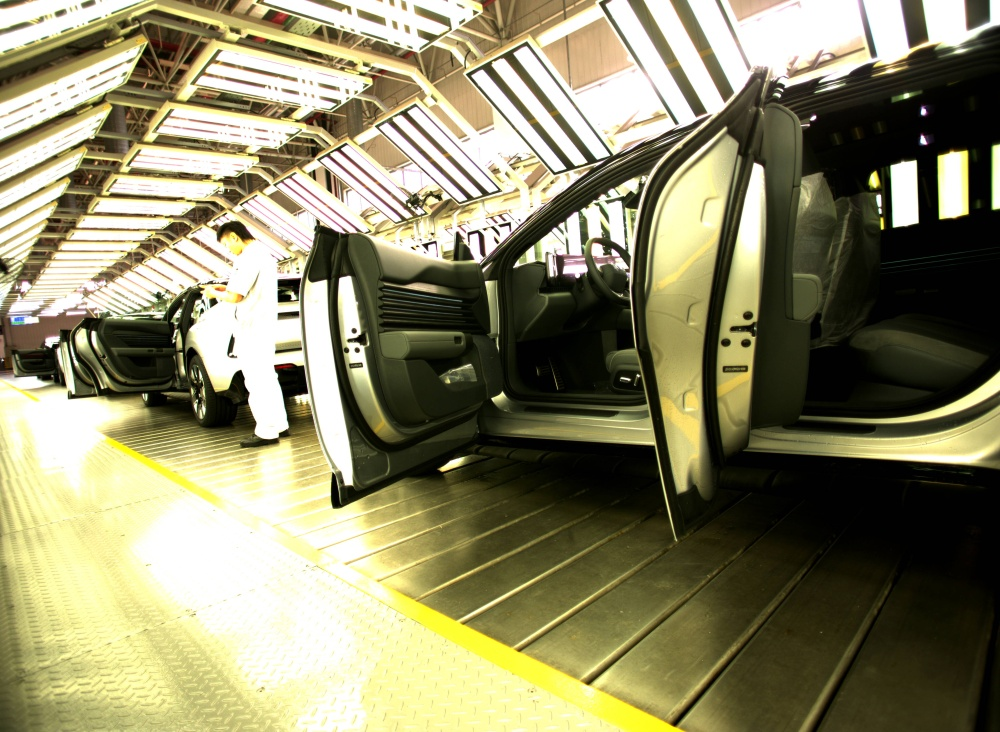armrest_color: (378, 328, 469, 360)
panel_color: (375, 274, 469, 333)
